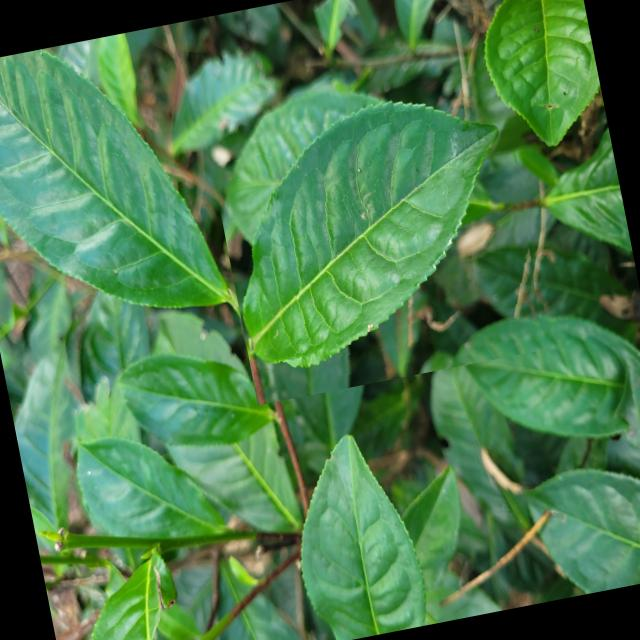Category D(7+ days, Not for Tea): (202, 58, 558, 405)
